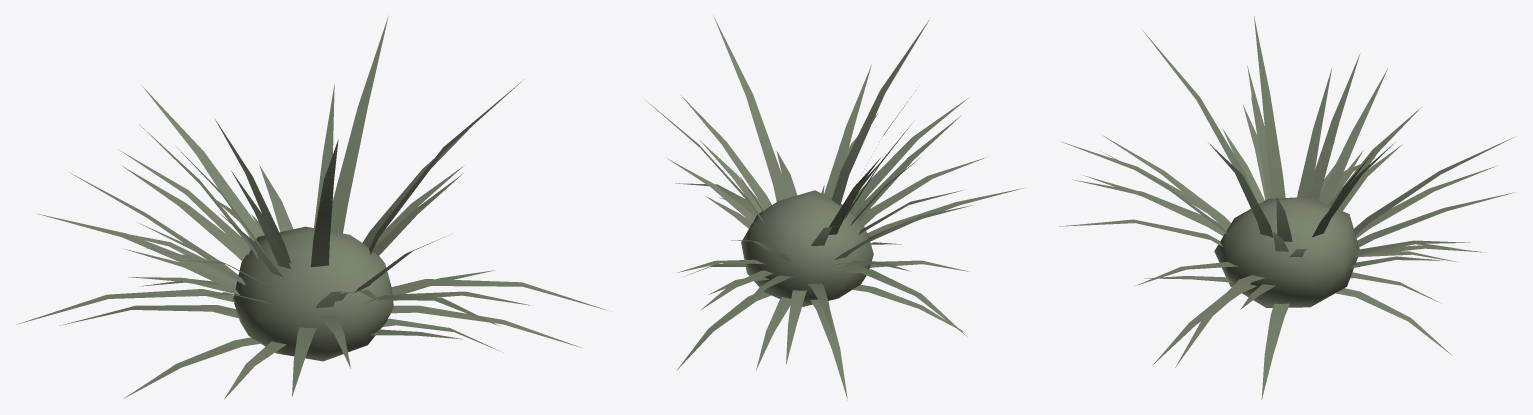
The model's file is desert_shrub.glb.
3 renders of one model, left to right at view 1: azimuth 30°, elevation 25°; view 2: azimuth 150°, elevation 25°; view 3: azimuth 270°, elevation 25°, orthographic. The views are drawn at different scales.
Visible parts, largest first — view 1: Body; view 2: Body; view 3: Body.
Boxes of the visible parts, bbox=[...] form: Body: bbox=[19, 16, 607, 399]; Body: bbox=[645, 15, 1025, 400]; Body: bbox=[1059, 16, 1515, 399].
Size of the model in its own units: 1.49 by 0.9713 by 1.47.
